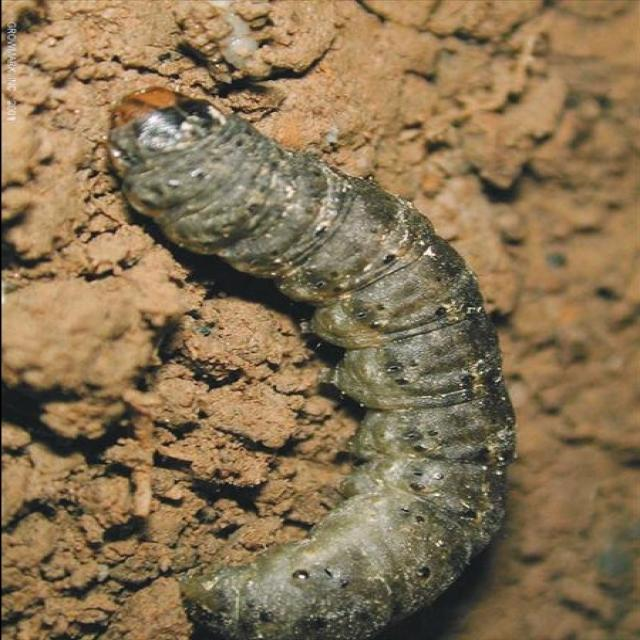black cutworm: (101, 89, 518, 638)
